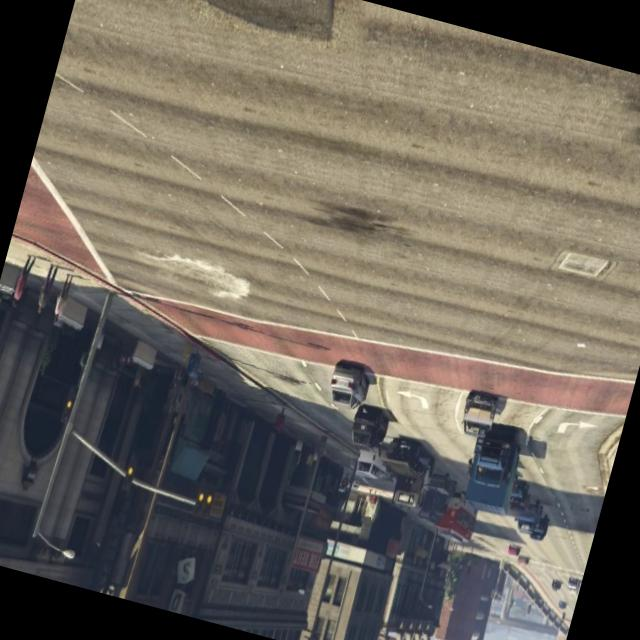Yellow-Signal: (182, 465, 225, 529), (56, 378, 82, 429), (117, 446, 143, 496)
